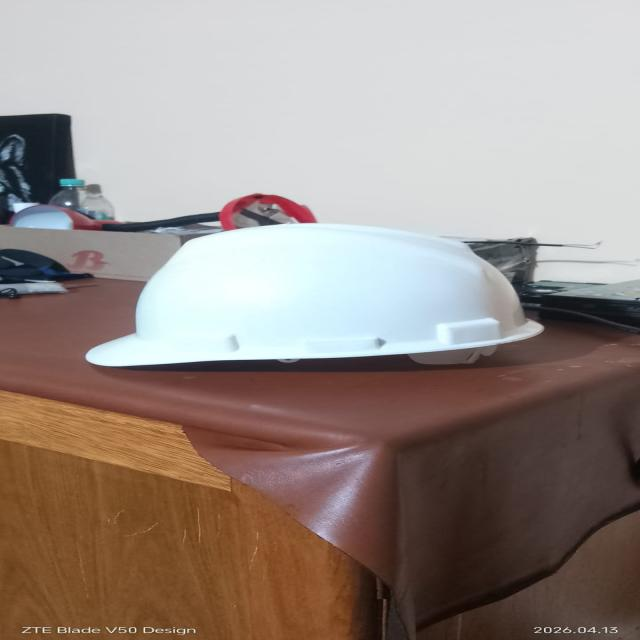casco: (68, 216, 555, 376)
